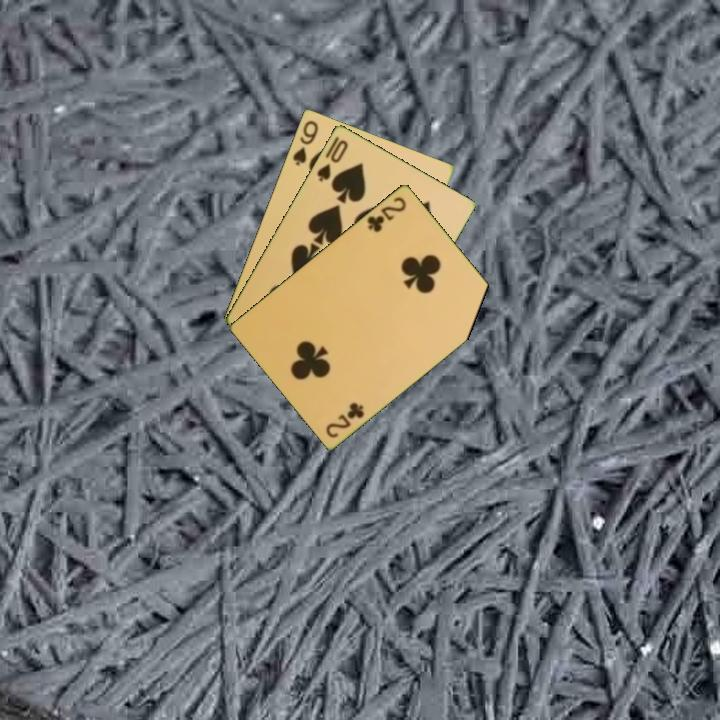10s: (313, 136, 351, 184)
2c: (363, 193, 409, 235), (322, 398, 367, 440)
9s: (289, 116, 321, 168)
